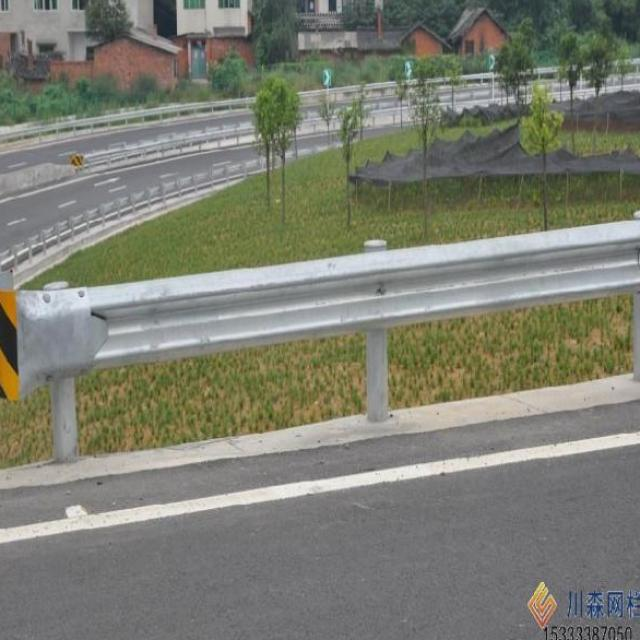Guard rail: (0, 220, 640, 398), (0, 159, 261, 269), (0, 97, 254, 144), (84, 121, 254, 170)
